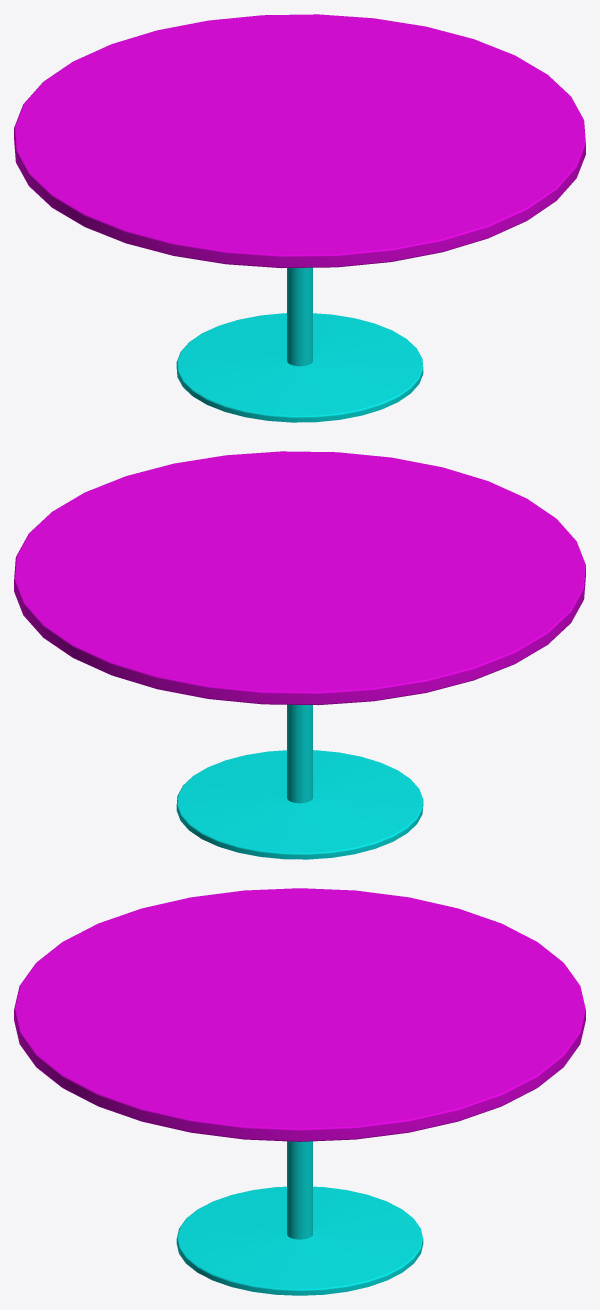
The picture shows the model from 3 angles, top to bottom: view 1: azimuth 30°, elevation 25°; view 2: azimuth 150°, elevation 25°; view 3: azimuth 270°, elevation 25°; orthographic projection.
Visible parts, largest first — view 1: pCylinder28; view 2: pCylinder28; view 3: pCylinder28.
Boxes of the visible parts, x1,y1,x2,y2 form: pCylinder28: (14,14,585,422); pCylinder28: (14,451,585,859); pCylinder28: (14,888,585,1295).
Bounding box in the file's own units: 102 × 46.36 × 102.
